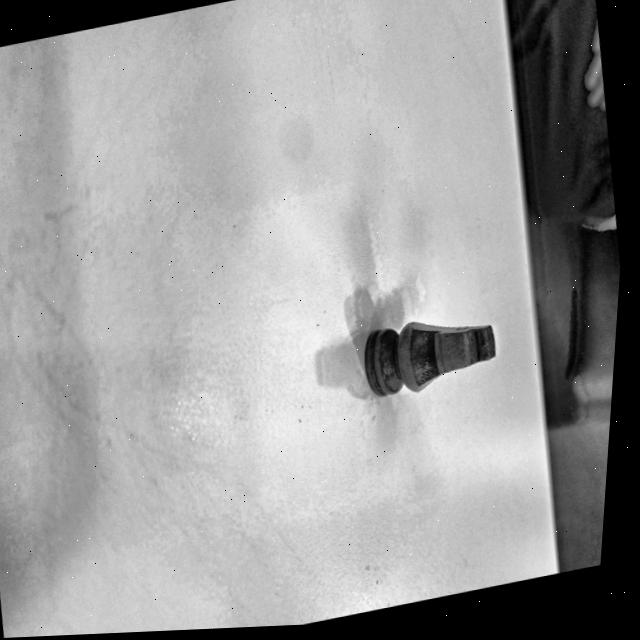black-knight: (364, 321, 496, 396)
